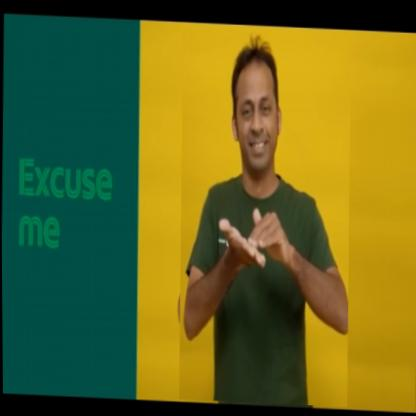ExcuseMe: (176, 25, 352, 405)
